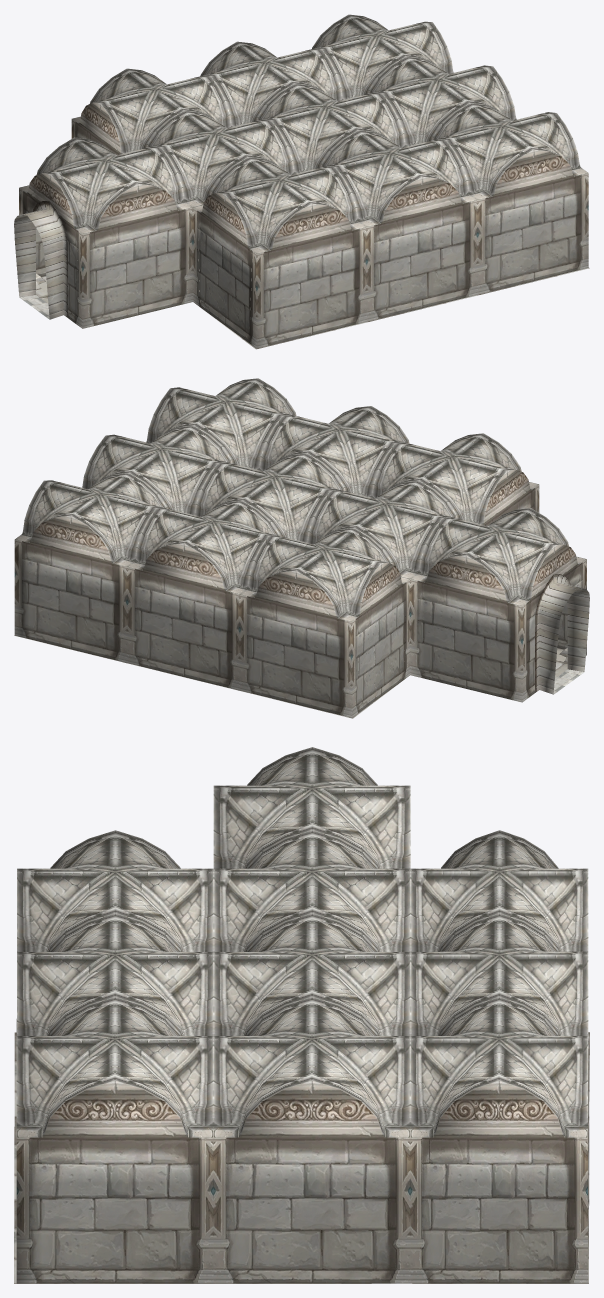
The model's file is stormwind_124.fbx.
3 renders of one model, top to bottom at view 1: azimuth 30°, elevation 25°; view 2: azimuth 150°, elevation 25°; view 3: azimuth 270°, elevation 25°, orthographic. The views are drawn at different scales.
Parts seen in each view (by area): view 1: stormwind_124_111, stormwind_124_62, stormwind_124_107, stormwind_124_52; view 2: stormwind_124_111, stormwind_124_62, stormwind_124_107, stormwind_124_52; view 3: stormwind_124_111, stormwind_124_62, stormwind_124_52.
Part boxes in pixels (box(x1,y1,x2,y2)): stormwind_124_111: box(19, 14, 588, 253); stormwind_124_62: box(19, 102, 588, 348); stormwind_124_107: box(14, 201, 68, 319); stormwind_124_52: box(36, 267, 589, 349); stormwind_124_111: box(15, 378, 586, 621); stormwind_124_62: box(14, 469, 586, 717); stormwind_124_107: box(535, 574, 589, 694); stormwind_124_52: box(14, 635, 567, 718); stormwind_124_111: box(16, 747, 588, 1137); stormwind_124_62: box(16, 1019, 588, 1283); stormwind_124_52: box(14, 1032, 589, 1283).
Size of the model in its own units: 39.72 by 10.72 by 27.55.
